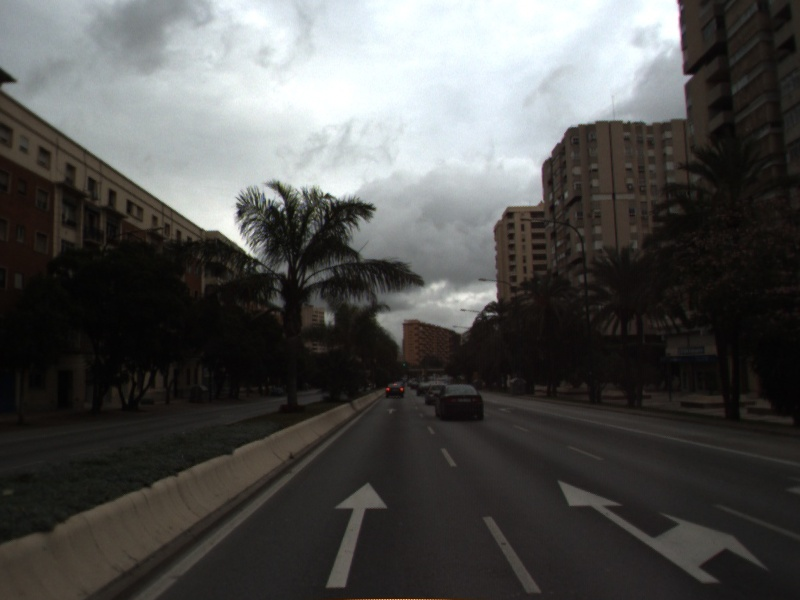RIGHT: (496, 405, 518, 415)
STRAIGHT: (323, 479, 390, 590), (384, 406, 399, 415)
STRAIGHT_RIGHT: (555, 477, 772, 585)
